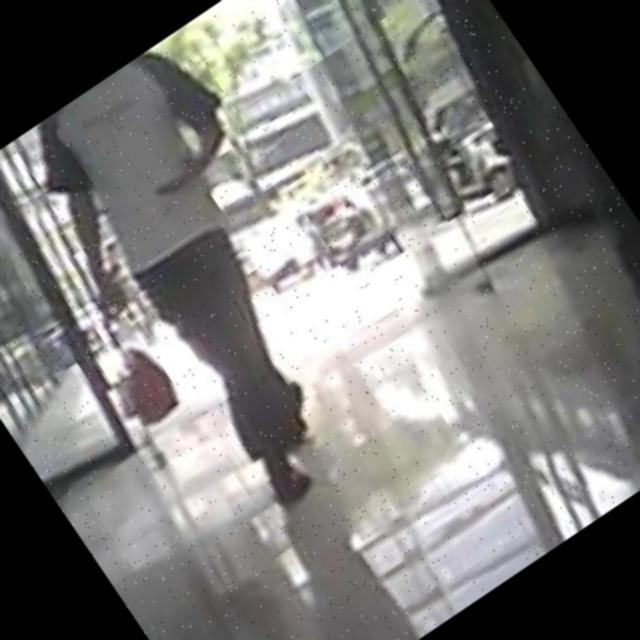person: (1, 36, 424, 526)
